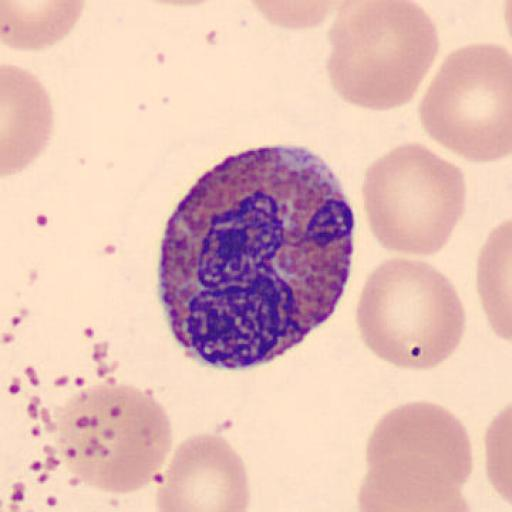RBC: (49, 380, 174, 497), (354, 256, 467, 372), (325, 0, 440, 113), (359, 140, 467, 258), (418, 40, 512, 166), (364, 399, 475, 498), (155, 431, 251, 512), (356, 454, 476, 512), (2, 63, 56, 177), (476, 216, 512, 346), (1, 0, 86, 52), (246, 0, 345, 32), (483, 401, 512, 509), (4, 0, 88, 24), (134, 0, 227, 7), (500, 0, 512, 51)
WBC: (155, 148, 354, 370)
